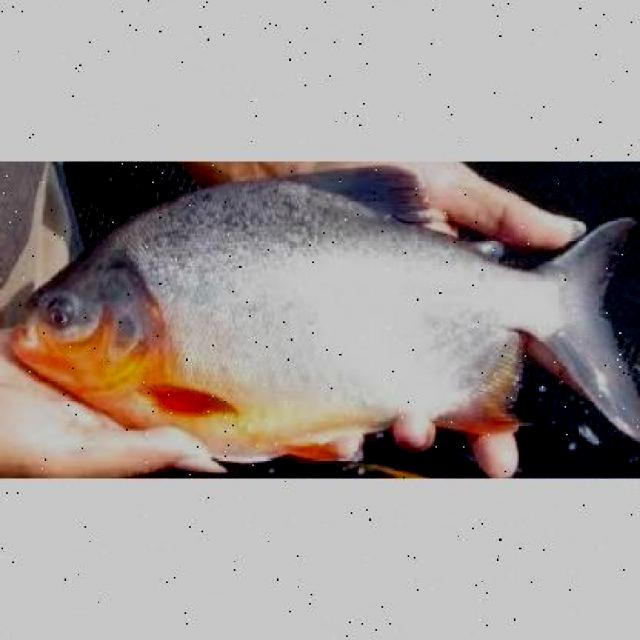ikan-pacu: (12, 168, 640, 442)
